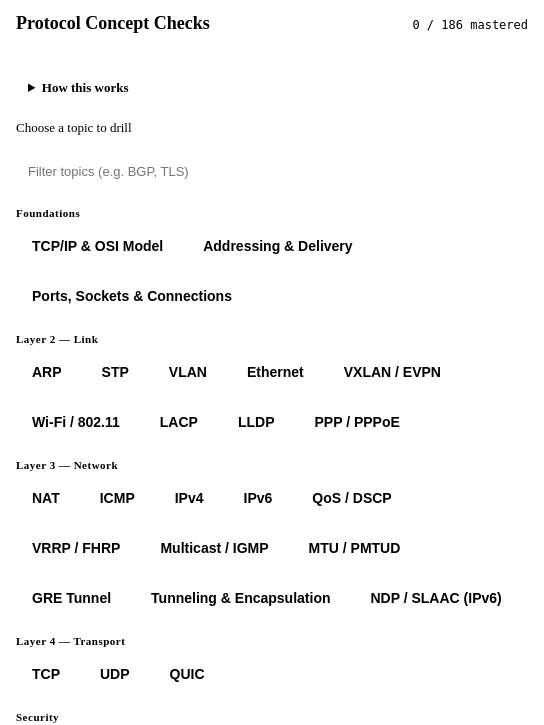
Scenario: ConceptCheckPanel › shuffles option order each presentation so reviews are genuine recall
Click the button "ARP": (47, 372) [16, 351, 78, 393]
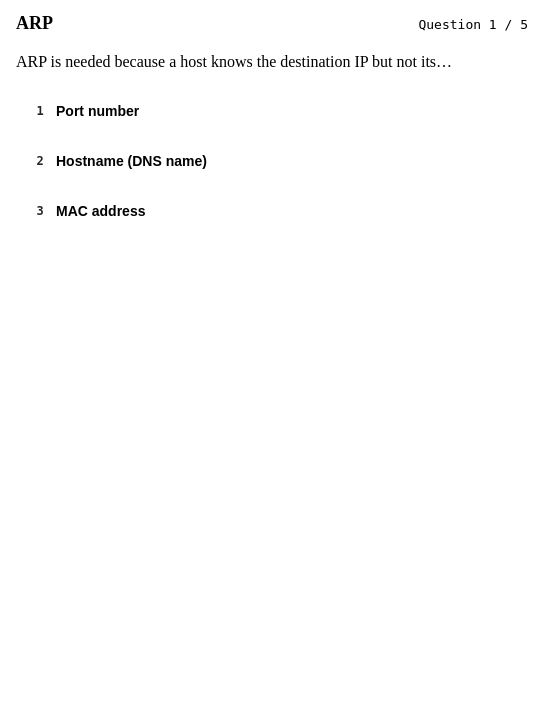
Now the text "Port number" is shown, box [56, 103, 139, 119]
Now the text "MAC address" is shown, box [56, 203, 146, 219]
